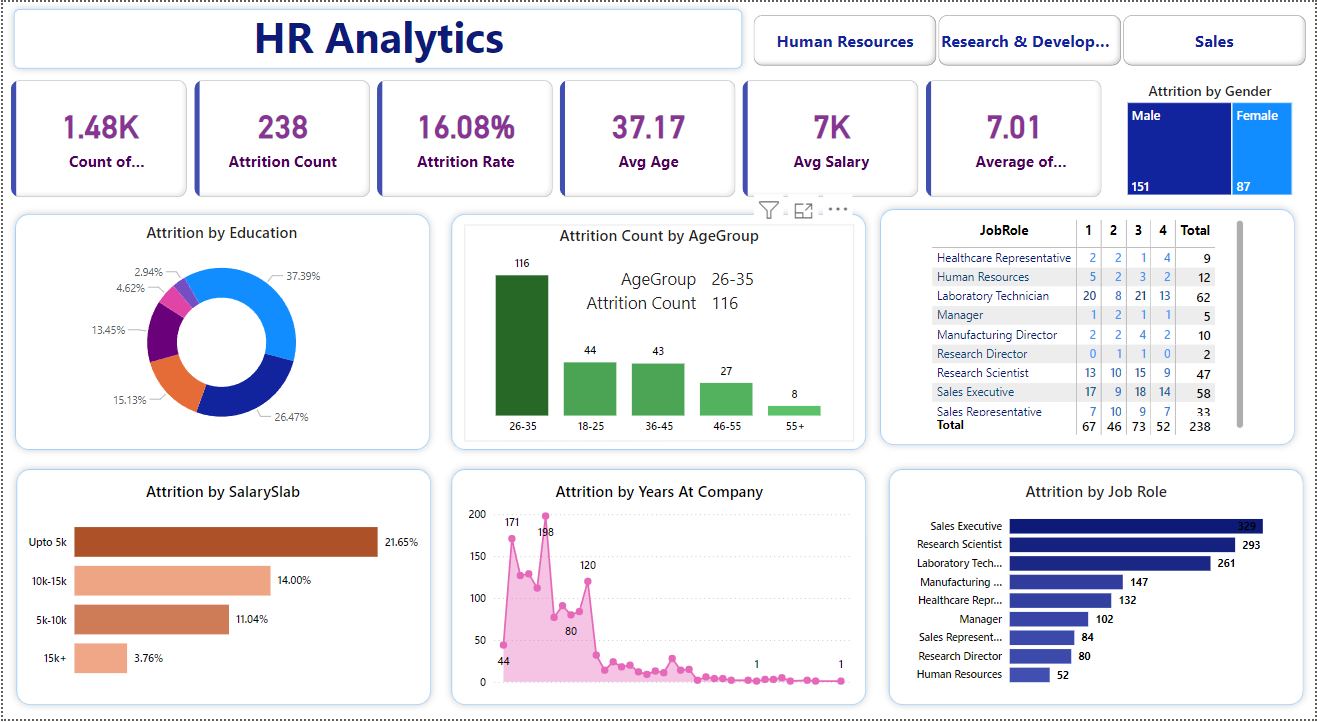

Layout of this report page (visuals, bound fields, positions):
{"tool":"powerbi","page":{"name":"Page 1","canvas":[1500,820],"ordinal":0},"visuals":[{"type":"cardVisual","fields":{"Data":["CountNonNull(HR_Analytics.EmployeeCount)","HR_Analytics.Attrition Count","HR_Analytics.Attrition Rate","HR_Analytics.Avg Age","HR_Analytics.Avg Salary","Avg(HR_Analytics.YearsAtCompany)"]},"box":[4.3,84.3,1258.6,144.3],"z":0},{"type":"shape","box":[5.7,234.3,490,285.7],"z":1000},{"type":"shape","box":[504.3,234.3,490,285.7],"z":2000},{"type":"shape","box":[994.3,228.6,490,285.7],"z":3000},{"type":"shape","box":[7.1,525.7,490,285.7],"z":4000},{"type":"shape","box":[504.3,525.7,490,285.7],"z":5000},{"type":"shape","box":[1004.3,525.7,490,285.7],"z":6000},{"type":"donutChart","title":"Attrition by Education","fields":{"Y":["HR_Analytics.Attrition Count"],"Category":["HR_Analytics.EducationField"]},"box":[21.4,251.4,457.1,252.9],"z":7000},{"type":"pivotTable","fields":{"Rows":["HR_Analytics.JobRole"],"Columns":["HR_Analytics.JobSatisfaction"],"Values":["HR_Analytics.Attrition Count"]},"box":[1057.1,244.3,365.7,255.7],"z":8000},{"type":"barChart","title":"Attrition by SalarySlab","fields":{"Category":["HR_Analytics.SalarySlab"],"Y":["HR_Analytics.Attrition Rate"]},"box":[22.9,547.1,457.1,244.3],"z":9000},{"type":"columnChart","fields":{"Category":["HR_Analytics.AgeGroup"],"Y":["HR_Analytics.Attrition Count"]},"box":[527.1,254.3,445.7,248.6],"z":10000},{"type":"shape","box":[4.3,0,848.6,84.3],"z":11000},{"type":"textbox","box":[234.3,1.4,390,78.6],"z":12000},{"type":"treemap","title":"Attrition by Gender","fields":{"Group":["HR_Analytics.Gender"],"Values":["HR_Analytics.Attrition Count"]},"box":[1280,90,198.6,135.7],"z":13000},{"type":"barChart","title":"Attrition by Job Role","fields":{"Category":["HR_Analytics.JobRole"],"Y":["CountNonNull(HR_Analytics.Attrition)"]},"box":[1025.7,547.1,447.1,244.3],"z":14000},{"type":"areaChart","title":"Attrition by Years At Company","fields":{"Y":["CountNonNull(HR_Analytics.Attrition)"],"Category":["HR_Analytics.YearsAtCompany"]},"box":[527.1,547.1,445.7,244.3],"z":15000},{"type":"advancedSlicerVisual","fields":{"Values":["HR_Analytics.Department"]},"box":[852.9,10,641.4,68.6],"z":16000}]}

Visuals, with their boxes in screenshot pixels (x1, y1, x2, y2), scaled from the page's 1500x820 canvas onto the 1317x722 screenshot:
cardVisual - CountNonNull(HR_Analytics.EmployeeCount) x HR_Analytics.Attrition Count: x1=4 y1=74 x2=1109 y2=201
shape: x1=5 y1=206 x2=435 y2=458
shape: x1=443 y1=206 x2=873 y2=458
shape: x1=873 y1=201 x2=1303 y2=453
shape: x1=6 y1=463 x2=436 y2=714
shape: x1=443 y1=463 x2=873 y2=714
shape: x1=882 y1=463 x2=1312 y2=714
"Attrition by Education" donutChart: x1=19 y1=221 x2=420 y2=444
pivotTable - HR_Analytics.JobRole x HR_Analytics.JobSatisfaction: x1=928 y1=215 x2=1249 y2=440
"Attrition by SalarySlab" barChart: x1=20 y1=482 x2=421 y2=697
columnChart - HR_Analytics.AgeGroup x HR_Analytics.Attrition Count: x1=463 y1=224 x2=854 y2=443
shape: x1=4 y1=0 x2=749 y2=74
textbox: x1=206 y1=1 x2=548 y2=70
"Attrition by Gender" treemap: x1=1124 y1=79 x2=1298 y2=199
"Attrition by Job Role" barChart: x1=901 y1=482 x2=1293 y2=697
"Attrition by Years At Company" areaChart: x1=463 y1=482 x2=854 y2=697
advancedSlicerVisual - HR_Analytics.Department: x1=749 y1=9 x2=1312 y2=69
